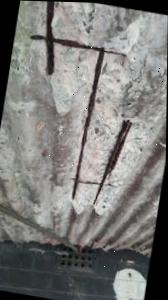exposed_rebar: (31, 1, 132, 205)
spalling: (0, 1, 168, 215)
